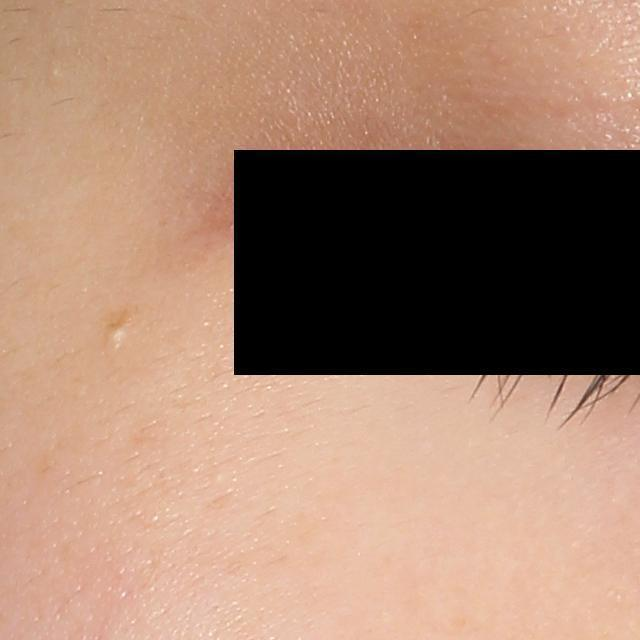other: (98, 325, 131, 349)
